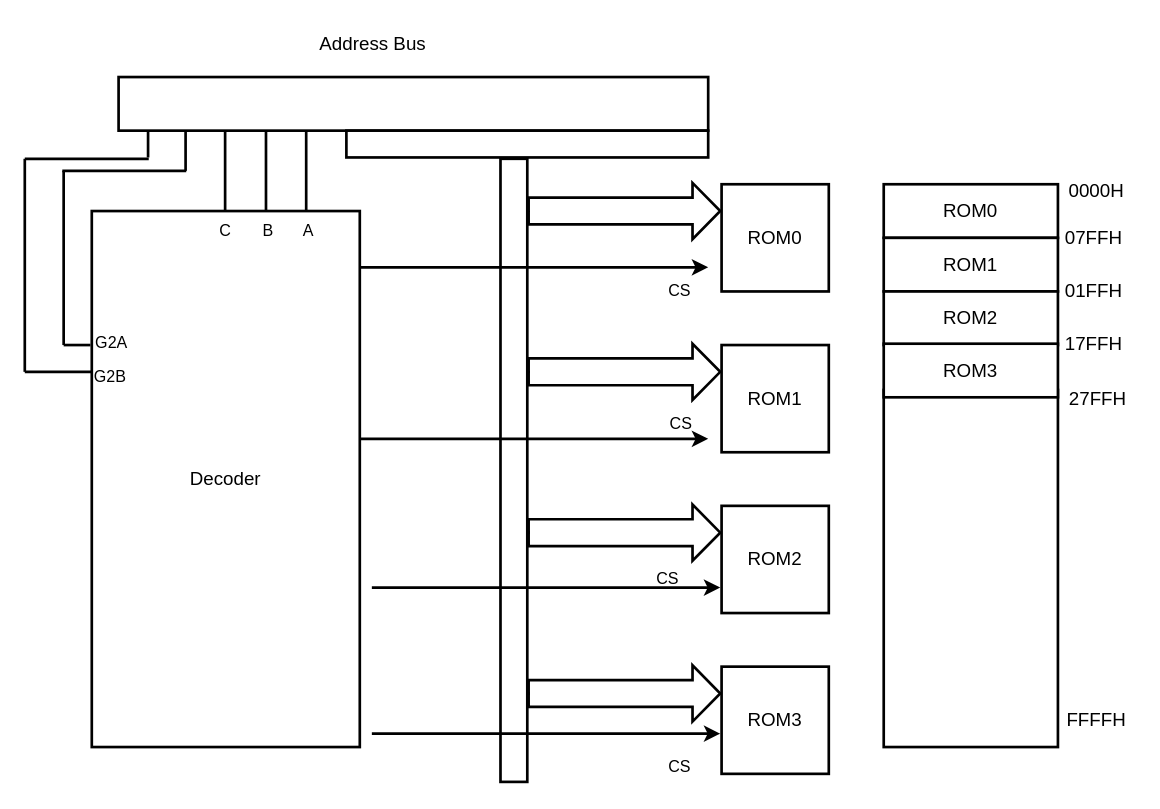
Image size: 1160x809. Some labels were removed from this diagram. Here are the shapes that lost their labels. From the top down, the centre of each, then its label:
At [413,103]: "A 15 A 14 A 13 A 12 A 11 A 10 A 9 A 8 A 7 A 6 A 5 A 4 A 3 A 2 A 1 A 0".
At [970,568]: "Future Use".
